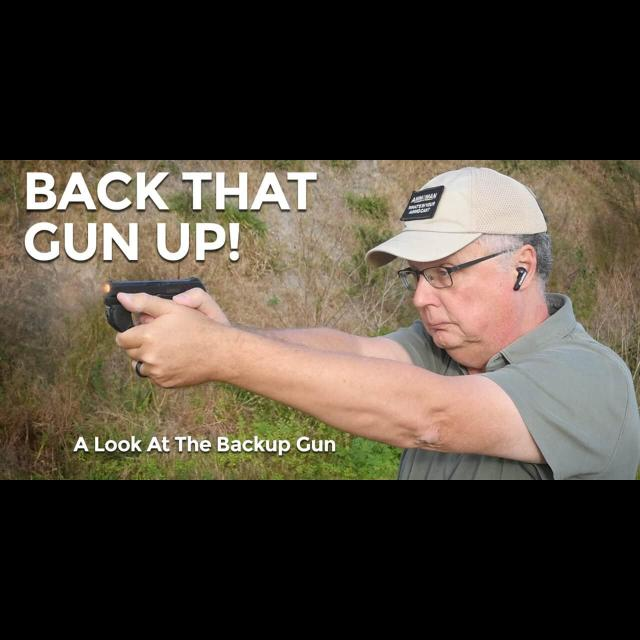handgun: (100, 274, 210, 316)
